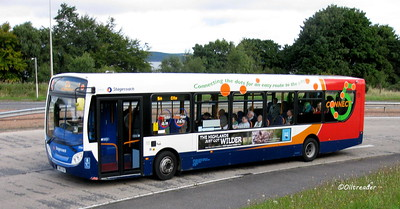bus: (44, 72, 366, 182)
